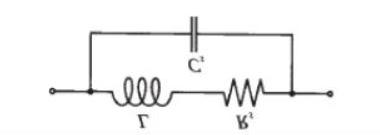inductor: (100, 68, 184, 111)
